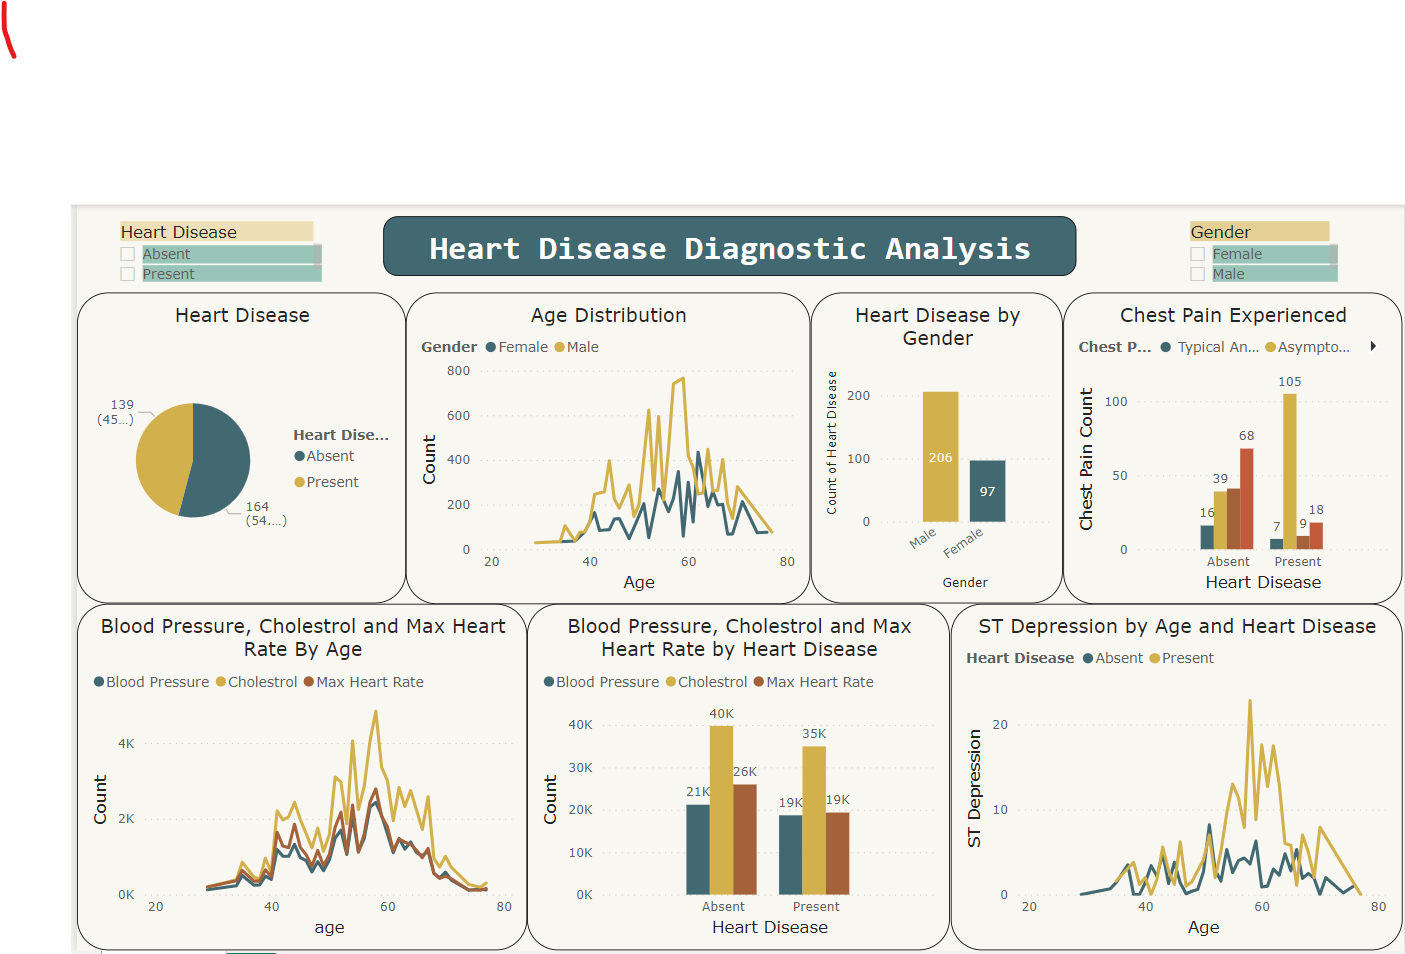

The dashboard page shown, as its layout file describes it:
{"tool":"powerbi","page":{"name":"Dashboard","canvas":[1280,720],"ordinal":0},"visuals":[{"type":"columnChart","title":"Heart Disease by Gender","fields":{"Category":["heart_disease_dataset.Gender"],"Y":["CountNonNull(heart_disease_dataset.Heart Disease)"],"Series":["heart_disease_dataset.Gender"]},"box":[708.1,84.8,243.6,299.7],"z":0},{"type":"pieChart","title":"Heart Disease","fields":{"Y":["CountNonNull(heart_disease_dataset.Heart Disease)"],"Category":["heart_disease_dataset.Heart Disease"]},"box":[0,84.8,317.6,299.7],"z":1000},{"type":"lineChart","title":"Age Distribution","fields":{"Category":["heart_disease_dataset.age"],"Y":["Sum(heart_disease_dataset.age)"],"Series":["heart_disease_dataset.Gender"]},"box":[317.6,84.8,390.4,300.9],"z":2000},{"type":"clusteredColumnChart","title":"Chest Pain Experienced","fields":{"Category":["heart_disease_dataset.Heart Disease"],"Y":["CountNonNull(heart_disease_dataset.chest pain)"],"Series":["heart_disease_dataset.chest pain"]},"box":[951.6,84.8,327.2,300.9],"z":3000},{"type":"lineChart","title":"Blood Pressure, Cholestrol and Max Heart Rate By Age","fields":{"Y":["Sum(heart_disease_dataset.Blood Pressure)","Sum(heart_disease_dataset.chol)","Sum(heart_disease_dataset.thalach)"],"Category":["heart_disease_dataset.age"]},"box":[0,384.5,434.6,334.3],"z":4000},{"type":"clusteredColumnChart","title":"Blood Pressure, Cholestrol and Max Heart Rate by Heart Disease","fields":{"Category":["heart_disease_dataset.Heart Disease"],"Y":["Sum(heart_disease_dataset.trestbps)","Sum(heart_disease_dataset.chol)","Sum(heart_disease_dataset.thalach)"]},"box":[434.6,384.5,408.4,334.3],"z":5000},{"type":"lineChart","title":"ST Depression by Age and Heart Disease","fields":{"Category":["heart_disease_dataset.age"],"Series":["heart_disease_dataset.Heart Disease"],"Y":["Sum(heart_disease_dataset.oldpeak)"]},"box":[843,384.5,435.8,334.3],"z":6000},{"type":"slicer","fields":{"Values":["heart_disease_dataset.Gender"]},"box":[1061.5,10.7,160,68.1],"z":7000},{"type":"slicer","fields":{"Values":["heart_disease_dataset.Heart Disease"]},"box":[28.7,10.7,212.5,68.1],"z":8000},{"type":"textbox","box":[294.9,10.7,668.7,57.3],"z":9000}]}

Visuals, with their boxes in screenshot pixels (x1, y1, x2, y2):
"Heart Disease by Gender" columnChart: Rect(805, 290, 1060, 603)
"Heart Disease" pieChart: Rect(66, 290, 397, 603)
"Age Distribution" lineChart: Rect(397, 290, 805, 604)
"Chest Pain Experienced" clusteredColumnChart: Rect(1059, 290, 1401, 604)
"Blood Pressure, Cholestrol and Max Heart Rate By Age" lineChart: Rect(66, 603, 520, 952)
"Blood Pressure, Cholestrol and Max Heart Rate by Heart Disease" clusteredColumnChart: Rect(520, 603, 946, 952)
"ST Depression by Age and Heart Disease" lineChart: Rect(946, 603, 1401, 952)
slicer - heart_disease_dataset.Gender: Rect(1174, 212, 1341, 284)
slicer - heart_disease_dataset.Heart Disease: Rect(96, 212, 318, 284)
textbox: Rect(374, 212, 1072, 272)
